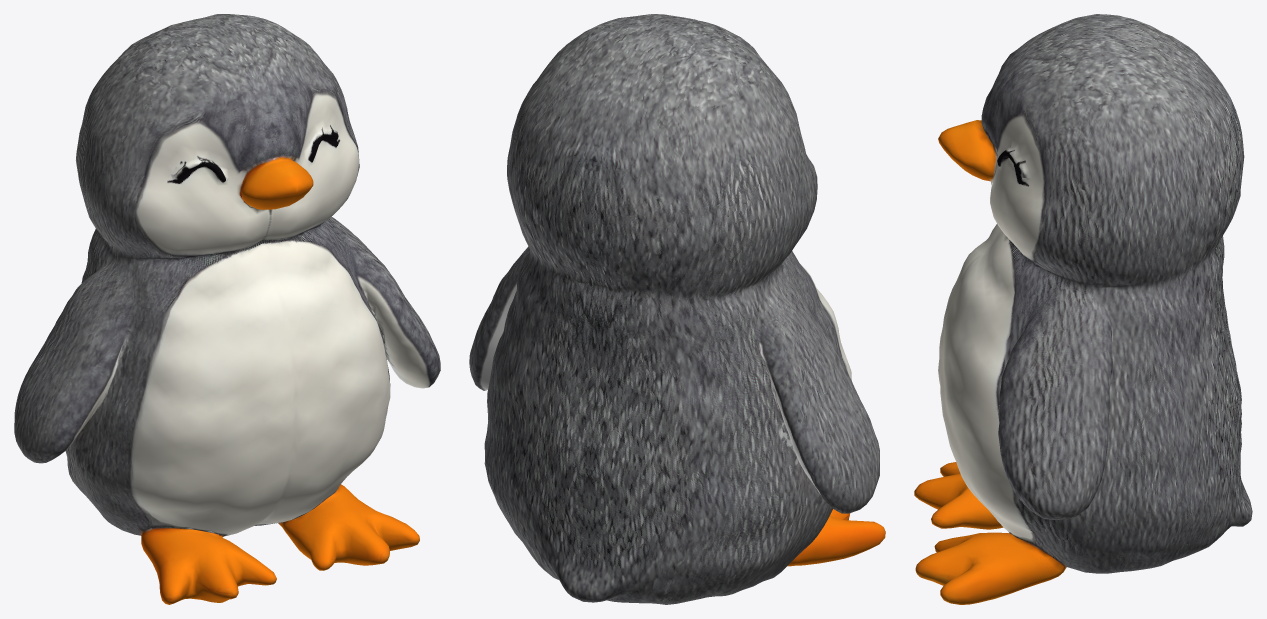
The model's file is penguin_chick_plush.glb.
3 renders of one model, left to right at view 1: azimuth 30°, elevation 25°; view 2: azimuth 150°, elevation 25°; view 3: azimuth 270°, elevation 25°, orthographic. The views are drawn at different scales.
Bounding box in the file's own units: 1.51 × 1.91 × 1.12.
Materials: 1 (1 with a texture image).
